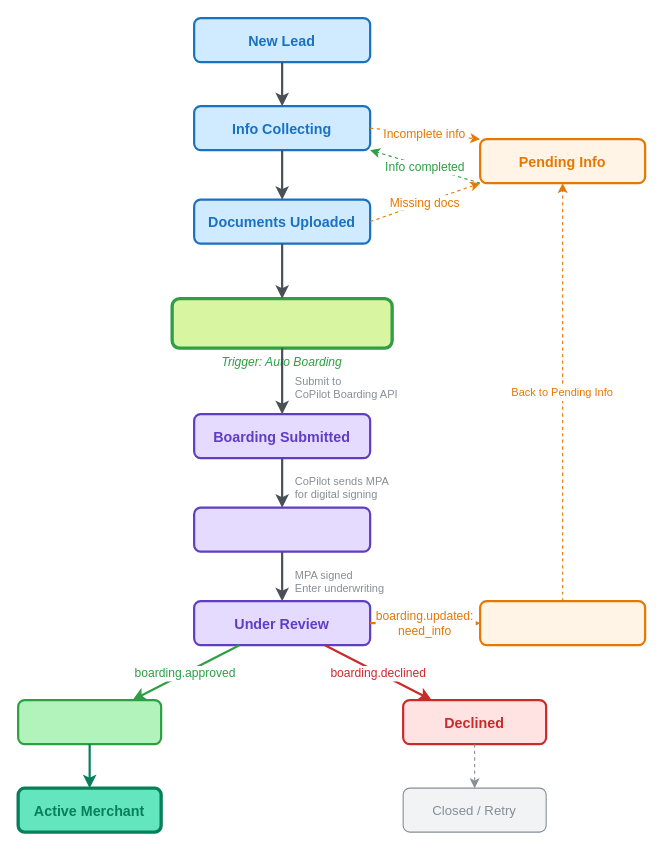
Some shapes in this 663 by 850 pixel diagram are drawn without their labels. The box of each missing label's shape, as (x1, y1, x2, y2) in pixels:
Approved: (16, 698, 162, 745)
Need More Info: (479, 600, 646, 646)
Pending Signature: (193, 506, 371, 552)
Ready for Boarding: (170, 296, 393, 349)
